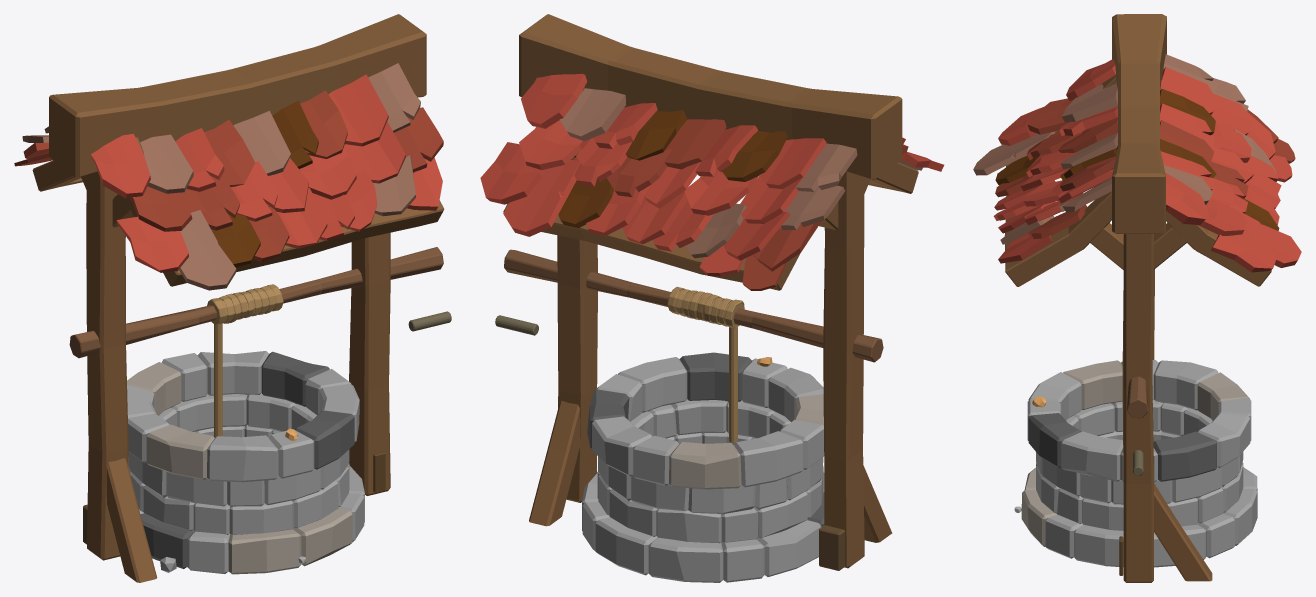
The model's file is Well.fbx.
The picture shows the model from 3 angles, left to right: view 1: azimuth 30°, elevation 25°; view 2: azimuth 150°, elevation 25°; view 3: azimuth 270°, elevation 25°; orthographic projection. The views are drawn at different scales.
Parts seen in each view (by area): view 1: Plane.007, Cube.001, Cube.007, Cube.003, Cube.002, Cylinder, Cube, Cube.011, Cylinder.002, Cylinder.003, Cube.015; view 2: Cube.001, Plane.001, Cube.007, Cube.003, Cube.002, Cylinder, Cube.004, Cube.015, Cylinder.002, Cube, Cube.005, Cylinder.003 (+3 smaller); view 3: Cube.001, Plane.001, Plane.007, Cube.007, Cube.002, Cube.011, Cube.004, Cube.013, Cube.010, Cube.012, Cylinder.
Boxes of the visible parts, left/top/right/bottom form: Plane.007: left=91, top=63, right=443, bottom=290; Cube.001: left=127, top=351, right=364, bottom=574; Cube.007: left=49, top=14, right=426, bottom=177; Cube.003: left=86, top=171, right=128, bottom=560; Cube.002: left=349, top=232, right=390, bottom=495; Cylinder: left=69, top=247, right=443, bottom=358; Cube: left=106, top=458, right=157, bottom=582; Cube.011: left=235, top=200, right=444, bottom=271; Cylinder.002: left=207, top=284, right=283, bottom=324; Cylinder.003: left=214, top=323, right=222, bottom=437; Cube.015: left=32, top=160, right=82, bottom=191; Cube.001: left=582, top=352, right=824, bottom=582; Plane.001: left=480, top=73, right=857, bottom=271; Cube.007: left=519, top=14, right=902, bottom=179; Cube.003: left=823, top=172, right=864, bottom=568; Cube.002: left=557, top=235, right=597, bottom=502; Cylinder: left=504, top=249, right=883, bottom=362; Cube.004: left=529, top=400, right=579, bottom=526; Cube.015: left=541, top=215, right=800, bottom=290; Cylinder.002: left=667, top=286, right=744, bottom=328; Cube: left=863, top=465, right=892, bottom=542; Cube.005: left=819, top=525, right=844, bottom=570; Cylinder.003: left=729, top=327, right=737, bottom=442; Cube.001: left=1021, top=360, right=1257, bottom=567; Plane.001: left=1160, top=54, right=1301, bottom=272; Plane.007: left=973, top=59, right=1117, bottom=263; Cube.007: left=1112, top=14, right=1166, bottom=233; Cube.002: left=1122, top=234, right=1153, bottom=582; Cube.011: left=1004, top=155, right=1111, bottom=286; Cube.004: left=1154, top=483, right=1212, bottom=581; Cube.013: left=1166, top=211, right=1271, bottom=286; Cube.010: left=1090, top=223, right=1123, bottom=269; Cube.012: left=1153, top=223, right=1186, bottom=269; Cylinder: left=1127, top=376, right=1148, bottom=418.
Bounding box in the file's own units: 2166 × 2467 × 1719.
